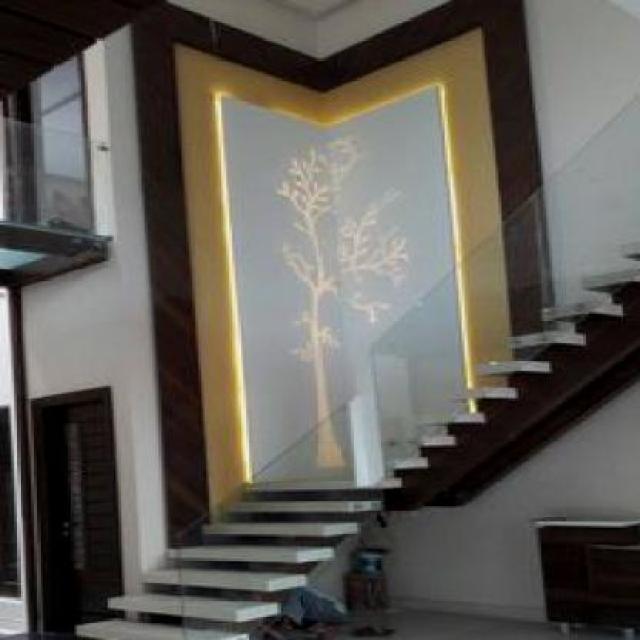stair: (61, 233, 640, 637)
